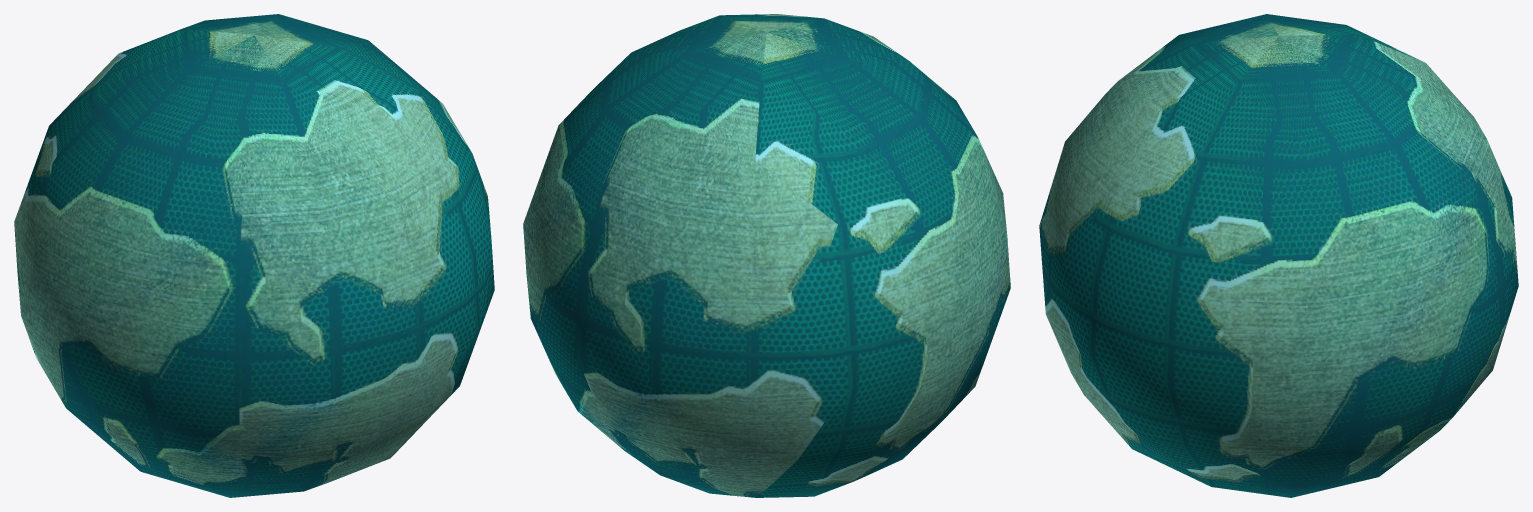
Rendered from stg110_MotMonument_08.obj.
3 views of the same model, side by side, from view 1: azimuth 30°, elevation 25°; view 2: azimuth 150°, elevation 25°; view 3: azimuth 270°, elevation 25° (orthographic).
Parts seen in each view (by area): view 1: polygon0; view 2: polygon0; view 3: polygon0.
Boxes of the visible parts, x1,y1,x2,y2 form: polygon0: (14, 14, 494, 497); polygon0: (523, 14, 1010, 497); polygon0: (1039, 14, 1518, 497).
Size of the model in its own units: 539 by 547 by 540.
